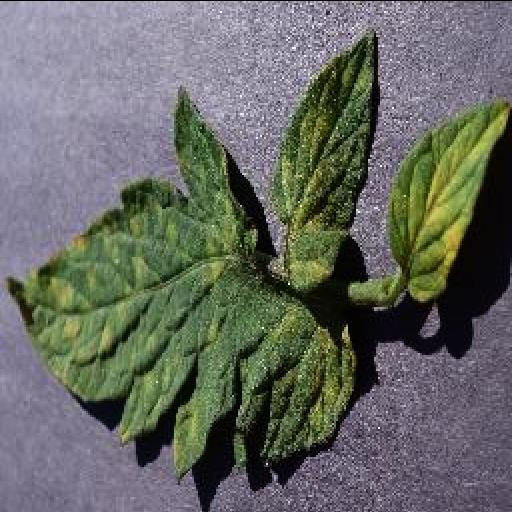disease_tomato: (2, 33, 376, 485), (382, 100, 510, 294)
